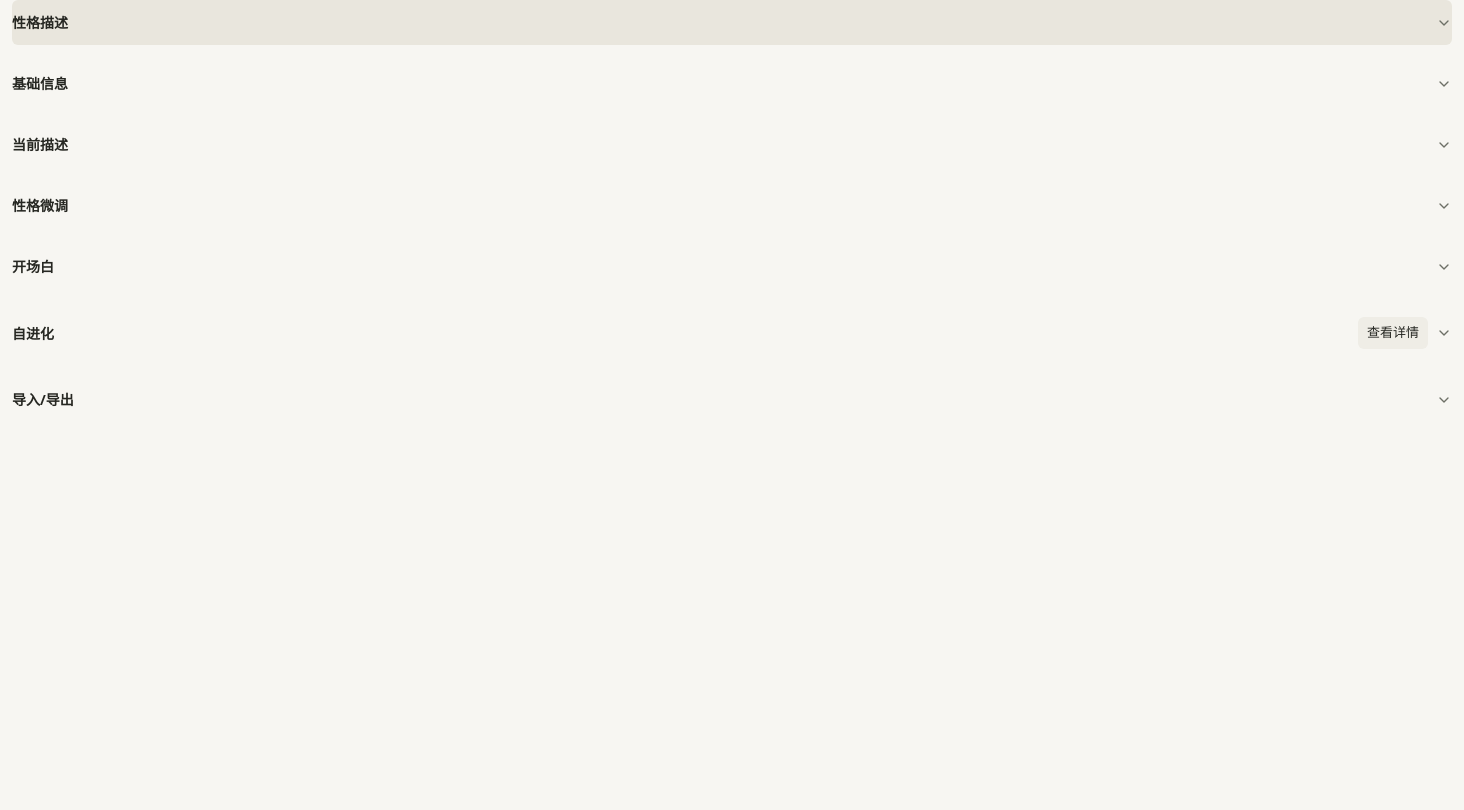
Test: PersonalitySettings evolution proposals › keeps the identity settings to a name and does not expose avatar editing
Click the button "基础信息" at (40, 84), box x1=12 y1=74 x2=1452 y2=93
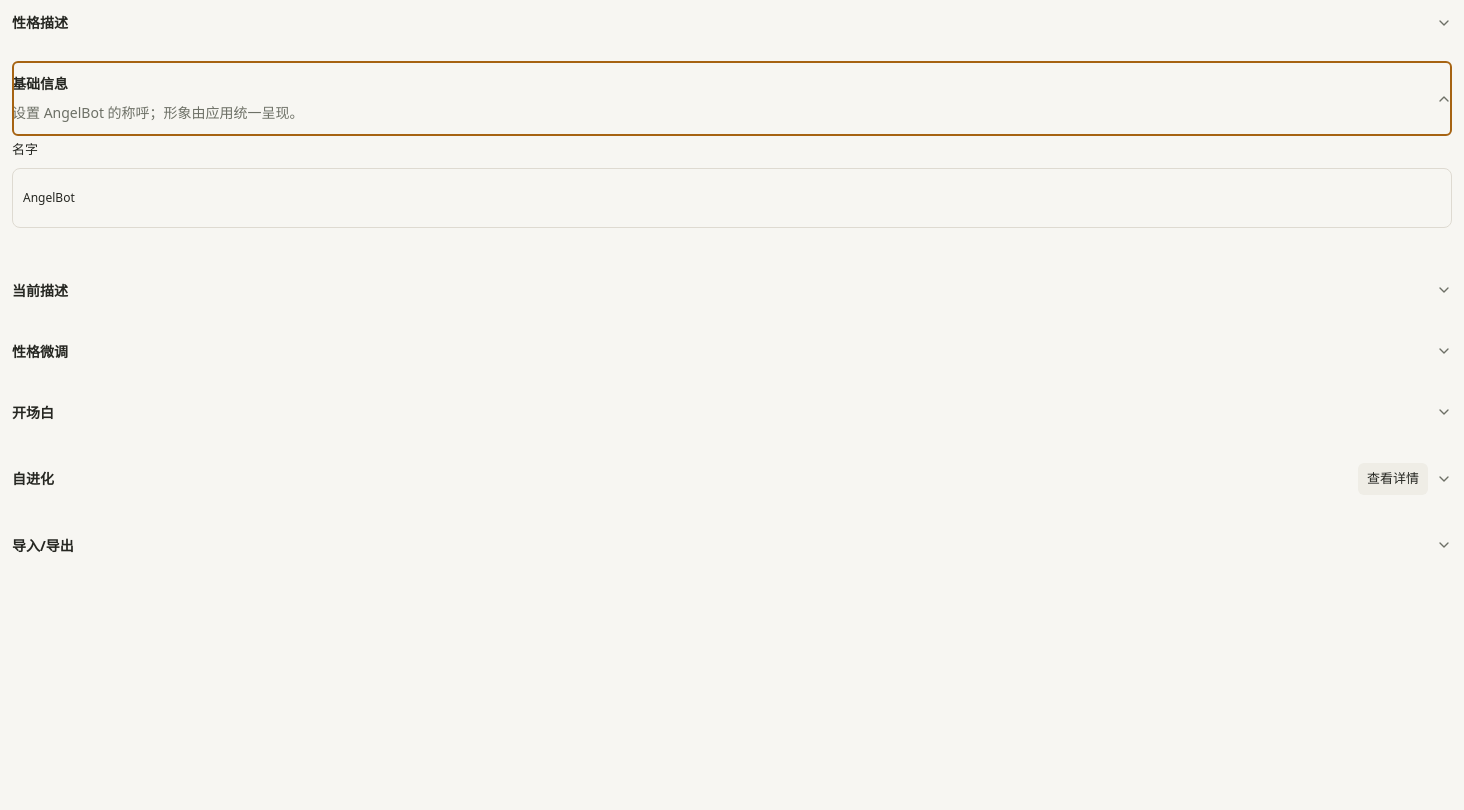
Expected: the field labelled "名字" is shown, x1=12 y1=168 x2=1452 y2=228
